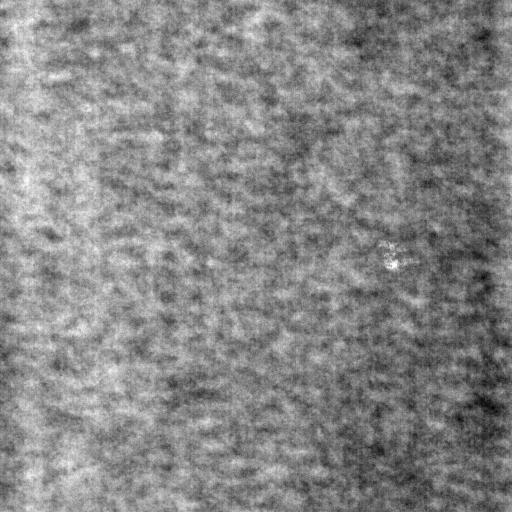DefectTypeA: (380, 239, 420, 275)
